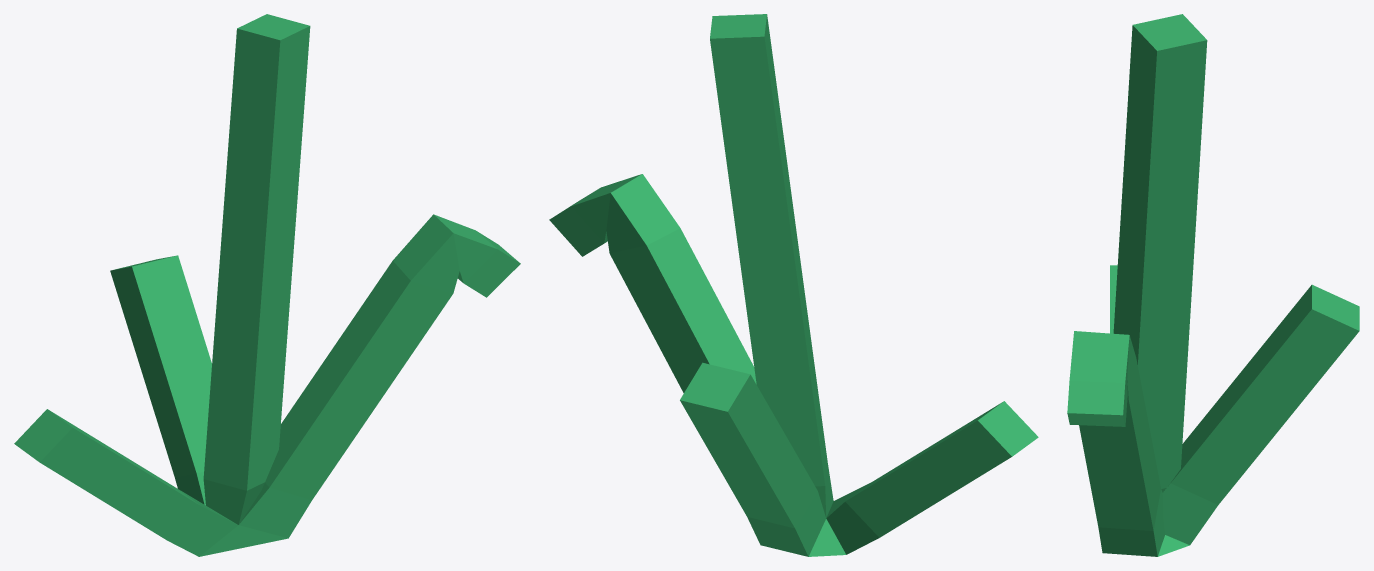
Rendered from plant_001_grp.fbx.
3 renders of one model, left to right at view 1: azimuth 30°, elevation 25°; view 2: azimuth 150°, elevation 25°; view 3: azimuth 270°, elevation 25°, orthographic. The views are drawn at different scales.
Parts seen in each view (by area): view 1: plant_001_grp; view 2: plant_001_grp; view 3: plant_001_grp.
Part boxes in pixels (x1=…): plant_001_grp: x1=14, y1=14, x2=520, y2=556; plant_001_grp: x1=549, y1=14, x2=1038, y2=556; plant_001_grp: x1=1067, y1=14, x2=1359, y2=556.
Bounding box in the file's own units: 100 × 100 × 50.03.
